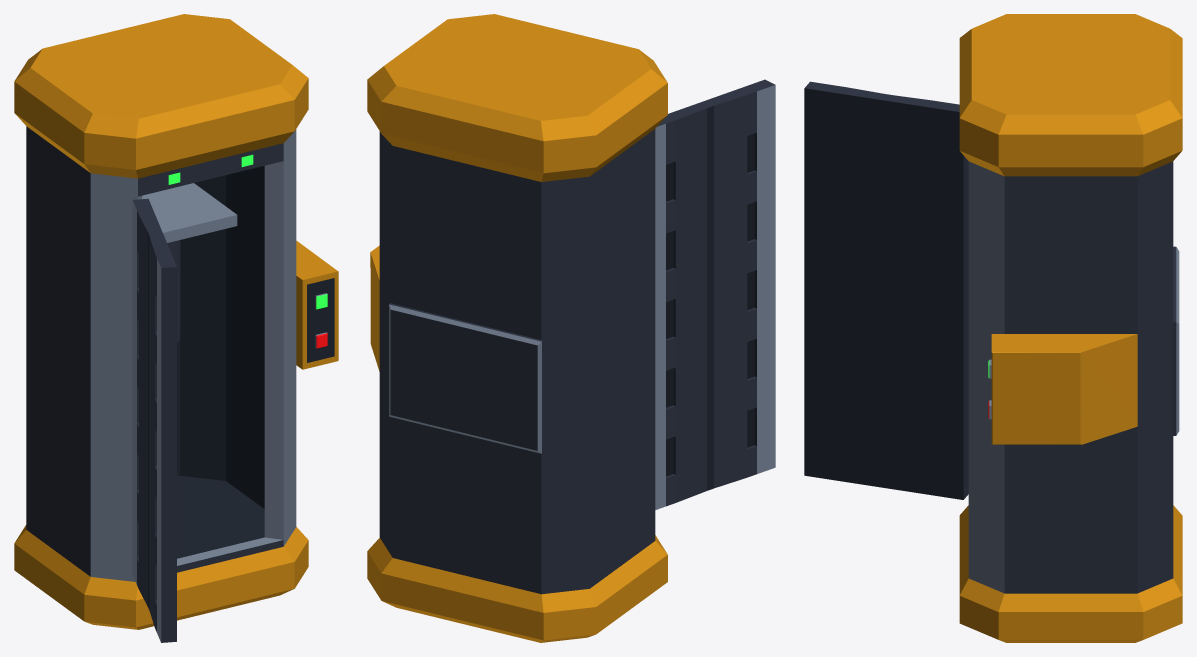
File: suit_storage_v3_open.glb
3 renders of one model, left to right at view 1: azimuth 30°, elevation 25°; view 2: azimuth 150°, elevation 25°; view 3: azimuth 270°, elevation 25°, orthographic. The views are drawn at different scales.
Parts seen in each view (by area): view 1: Suit_Storage_Shell, Suit_Storage_Door, Suit_Storage_Service_Hatch; view 2: Suit_Storage_Shell, Suit_Storage_Door, Suit_Storage_Service_Hatch; view 3: Suit_Storage_Shell, Suit_Storage_Door, Suit_Storage_Service_Hatch.
Boxes of the visible parts, <box> form: Suit_Storage_Shell: <box>14,14,338,629</box>; Suit_Storage_Door: <box>132,198,176,642</box>; Suit_Storage_Service_Hatch: <box>167,240,180,335</box>; Suit_Storage_Shell: <box>367,14,667,642</box>; Suit_Storage_Door: <box>655,79,775,509</box>; Suit_Storage_Service_Hatch: <box>389,303,543,453</box>; Suit_Storage_Shell: <box>959,14,1182,642</box>; Suit_Storage_Door: <box>804,81,968,499</box>; Suit_Storage_Service_Hatch: <box>1172,246,1179,435</box>.
Size of the model in its own units: 1.24 by 2.28 by 1.48.
